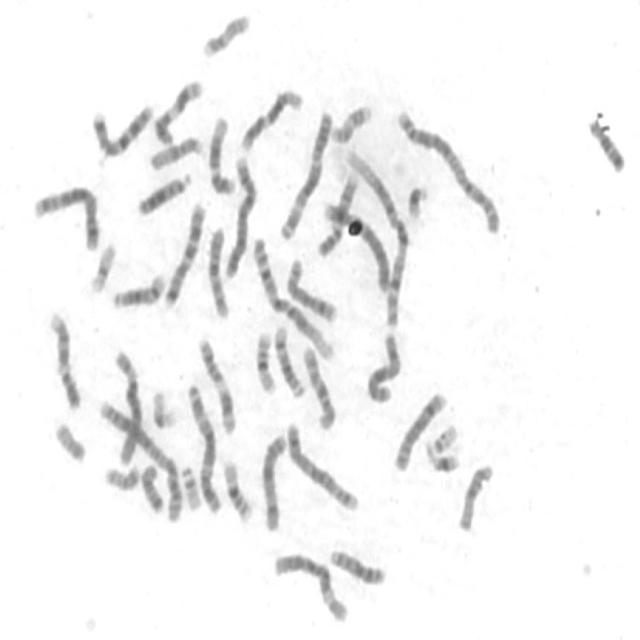A1: (344, 143, 412, 328), (248, 229, 337, 363)
A2: (392, 100, 504, 235), (94, 393, 184, 523)
A3: (276, 103, 336, 240), (182, 376, 224, 516)
B4: (317, 192, 394, 294), (220, 149, 258, 280)
B5: (282, 414, 362, 512), (28, 177, 102, 253)
C10: (298, 338, 338, 432), (203, 217, 232, 320)
C11: (194, 328, 238, 436), (150, 71, 205, 146)
C12: (236, 80, 306, 153), (204, 108, 238, 196)
C6: (270, 545, 352, 625), (109, 341, 145, 466)
C7: (159, 194, 209, 308), (87, 96, 156, 158)
C8: (390, 384, 450, 474), (282, 250, 341, 325)
C9: (313, 165, 362, 259), (44, 303, 84, 412)
D13: (133, 164, 195, 218), (325, 541, 388, 587)
D14: (270, 317, 307, 399), (108, 265, 168, 311)
D15: (454, 456, 496, 533), (145, 128, 205, 172)
E16: (218, 450, 256, 524), (252, 324, 280, 395)
E17: (198, 5, 253, 59), (327, 96, 374, 145)
E18: (584, 110, 628, 174), (137, 456, 167, 514)
F19: (86, 233, 118, 294), (148, 382, 180, 431)
F20: (50, 414, 89, 464), (100, 457, 142, 492)
G21: (402, 176, 432, 221), (422, 442, 462, 475)
G22: (422, 416, 461, 458), (177, 458, 204, 512)
X: (257, 426, 289, 534), (362, 326, 404, 405)
